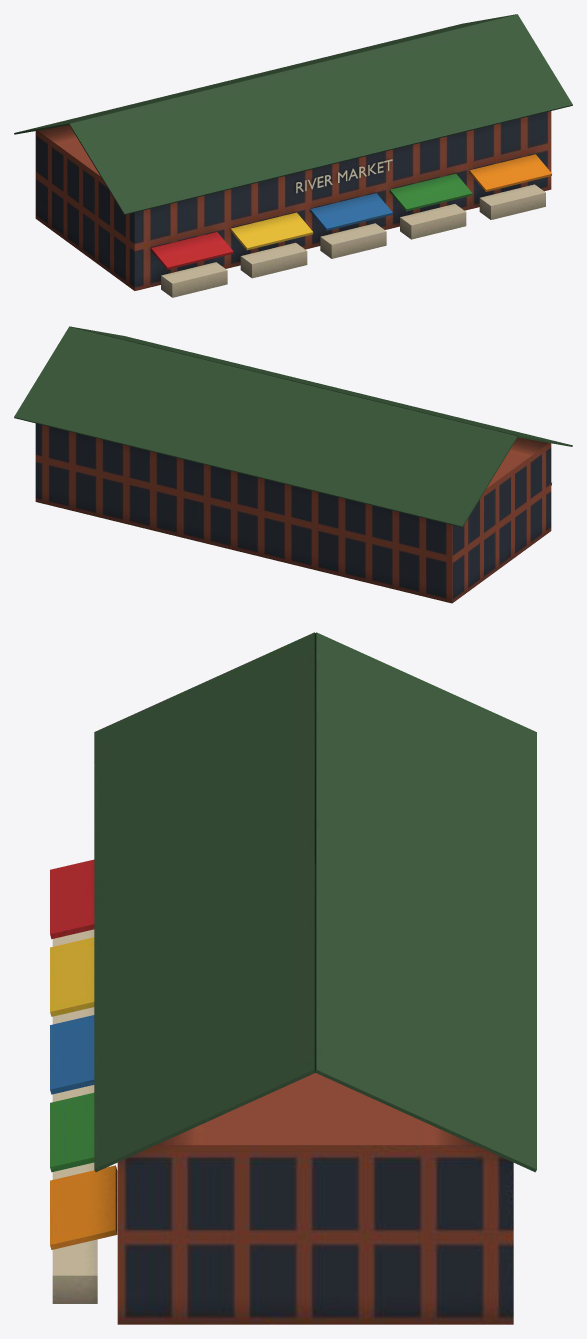
File: river_market.glb
3 views of the same model, one above another, from view 1: azimuth 30°, elevation 25°; view 2: azimuth 150°, elevation 25°; view 3: azimuth 270°, elevation 25° (orthographic). The views are drawn at different scales.
Parts seen in each view (by area): view 1: river_market; view 2: river_market; view 3: river_market.
Part boxes in pixels (<box>): river_market: <box>14,14,572,297</box>; river_market: <box>14,326,572,603</box>; river_market: <box>50,632,536,1324</box>.
Bounding box in the file's own units: 36.6 × 10.55 × 17.21.
Materials: 1 (1 with a texture image).
